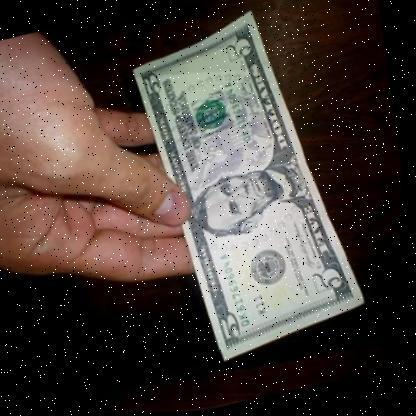five-front: (108, 0, 390, 373)
